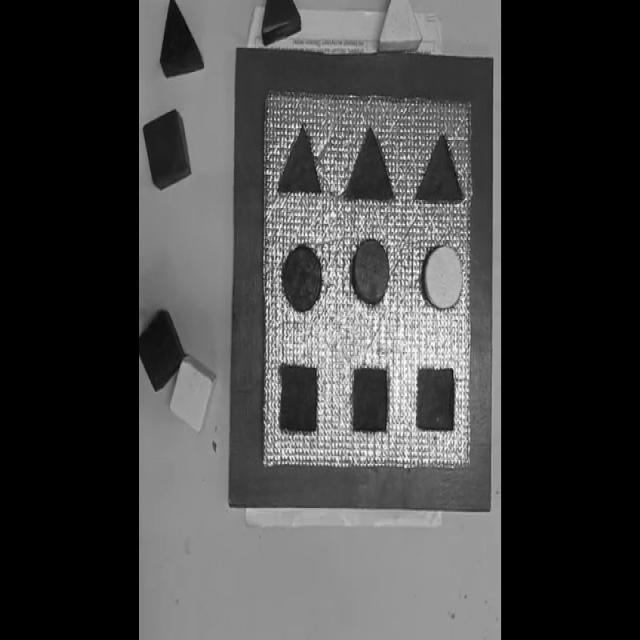bcircle: (281, 244, 323, 313)
bcube: (139, 308, 184, 393)
btriangle: (158, 0, 202, 79)
mtcube: (278, 362, 318, 435), (416, 366, 456, 432), (352, 365, 389, 434)
mttriangle: (342, 125, 394, 203), (416, 132, 464, 205), (278, 122, 323, 196)
rcircle: (348, 237, 393, 312)
rcube: (143, 109, 190, 190)
rtriangle: (261, 0, 302, 47)
wb: (260, 89, 475, 473)
ycircle: (423, 243, 464, 310)
ycube: (169, 356, 215, 435)
ytriangle: (378, 0, 422, 55)
